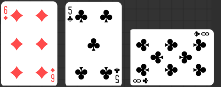5C: (66, 5, 74, 23)
8C: (192, 30, 210, 37)
